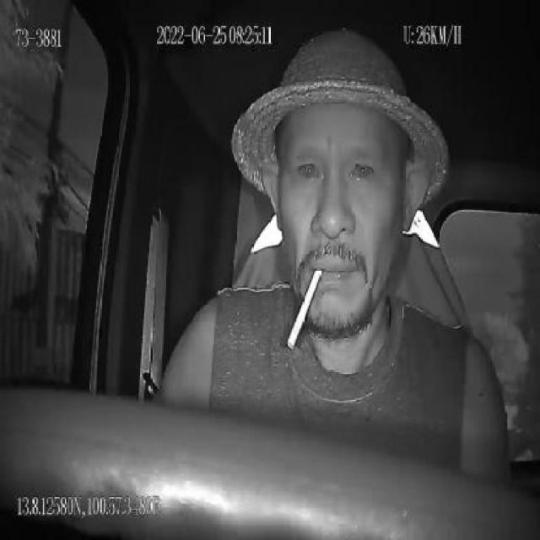smoking: (287, 267, 322, 351)
